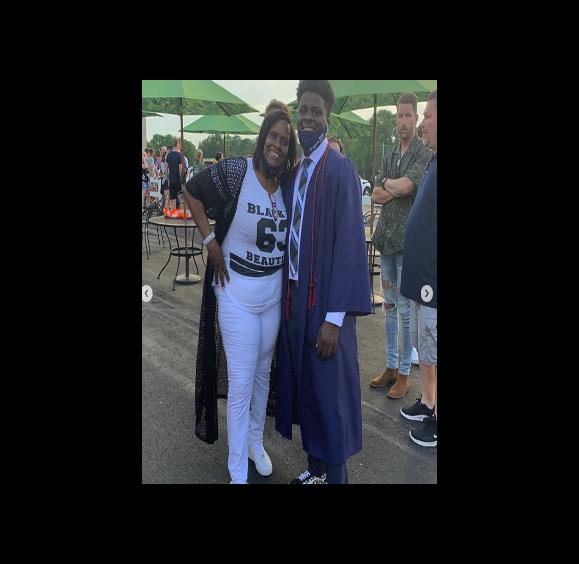mask_weared_incorrect: (298, 101, 325, 147), (265, 128, 287, 175)
without_mask: (421, 107, 436, 149), (398, 106, 414, 139)
